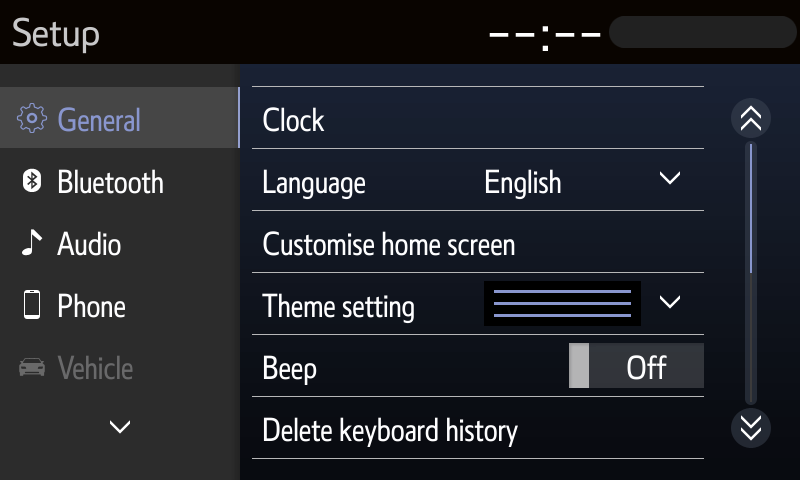touchPart: (249, 80, 707, 154), (249, 393, 713, 465), (248, 329, 710, 401), (249, 145, 709, 217), (251, 207, 709, 277), (248, 270, 706, 339), (15, 161, 169, 202), (17, 217, 147, 263), (10, 283, 142, 325), (726, 403, 781, 453), (728, 97, 775, 139), (100, 410, 143, 447)
untouchPart: (469, 9, 799, 57), (1, 85, 242, 150), (15, 347, 151, 387), (8, 4, 104, 58)
